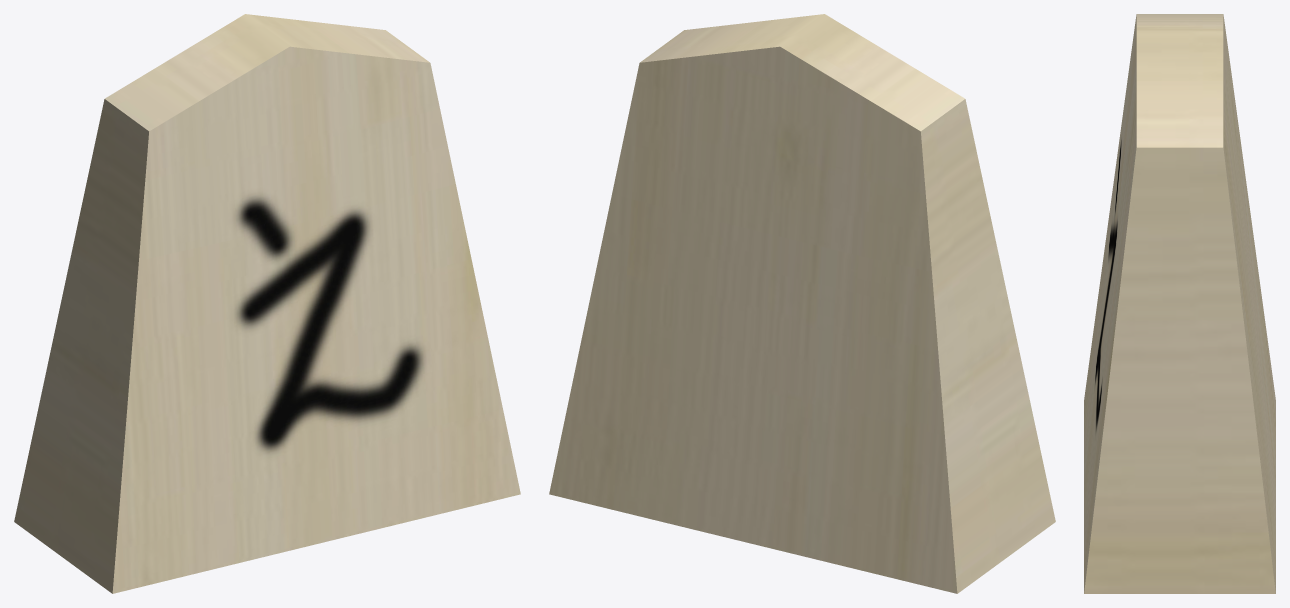
Rendered from Ficha.obj.
3 renders of one model, left to right at view 1: azimuth 30°, elevation 25°; view 2: azimuth 150°, elevation 25°; view 3: azimuth 270°, elevation 25°, orthographic. The views are drawn at different scales.
Visible parts, largest first — view 1: Fciha; view 2: Fciha; view 3: Fciha.
Boxes of the visible parts, x1=… form: Fciha: x1=14, y1=14, x2=520, y2=593; Fciha: x1=549, y1=14, x2=1055, y2=593; Fciha: x1=1084, y1=14, x2=1275, y2=593.
Size of the model in its own units: 5.47 by 6.12 by 2.29.
1 material, 1 textured.
